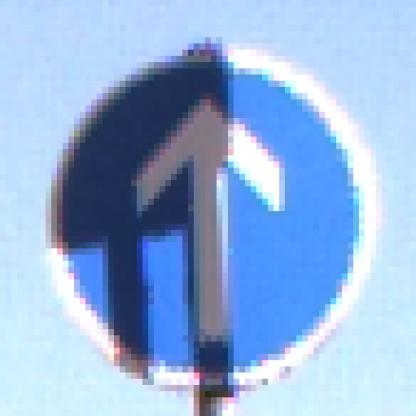AheadOnly: (41, 38, 383, 380)
